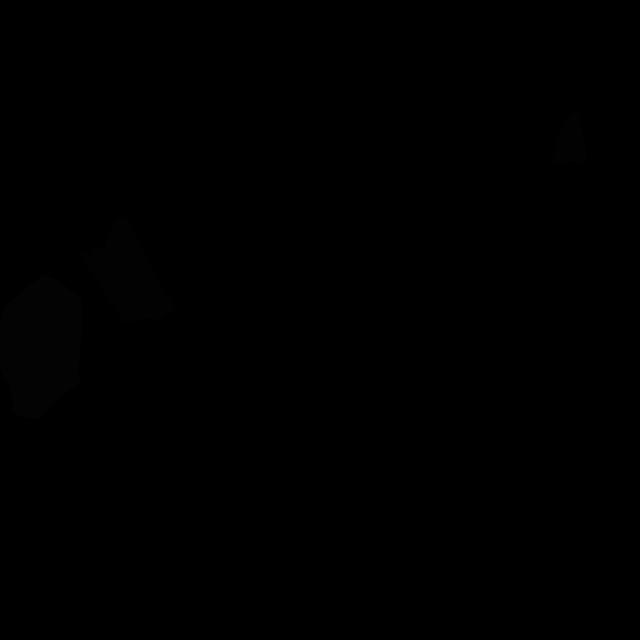cardboard: (77, 217, 176, 324), (550, 111, 588, 165)
metal: (0, 273, 82, 419)
